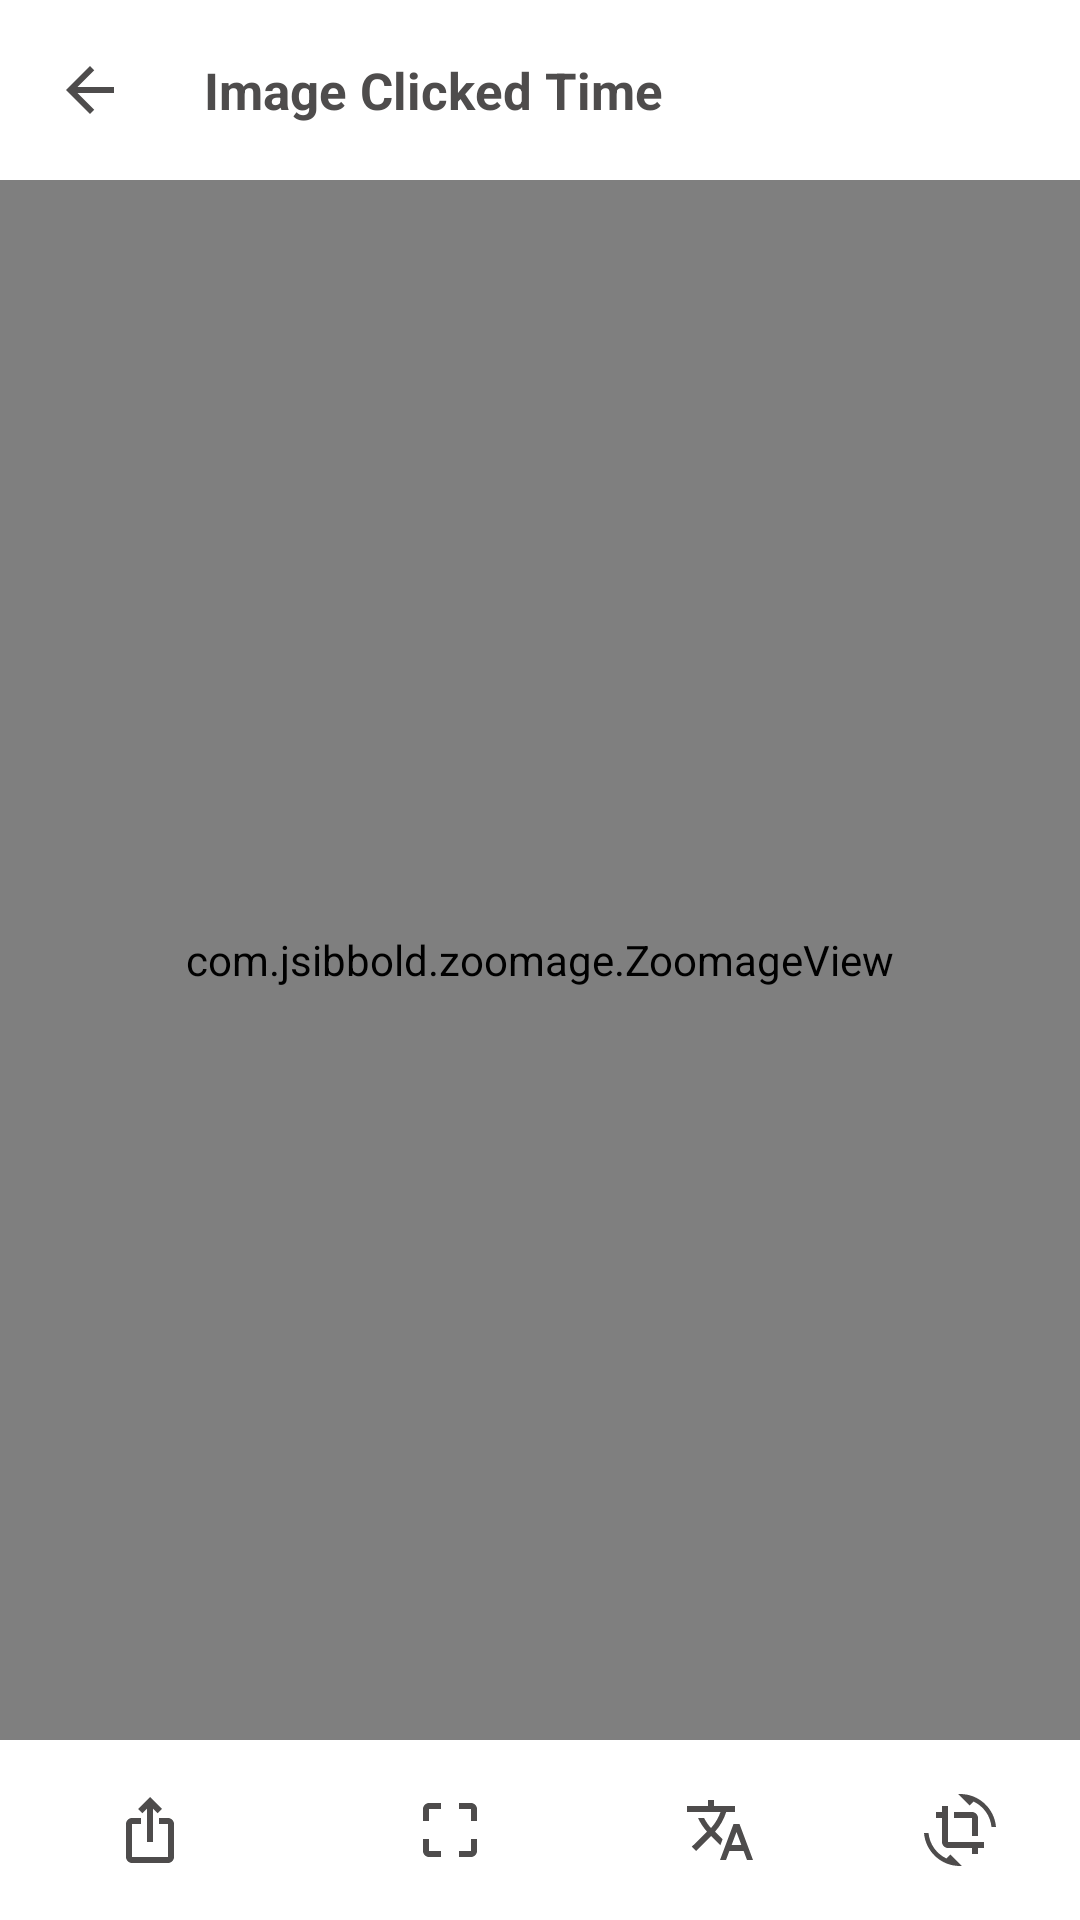

Where icons sit on this 1080x1920 app screen, as BBox(x1, y1, x2, y2):
back: BBox(66, 66, 114, 114)
content share: BBox(126, 1797, 174, 1863)
rotate: BBox(924, 1794, 996, 1866)
translate: BBox(687, 1800, 753, 1860)
